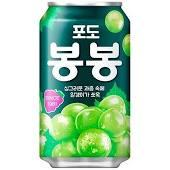can: (29, 1, 137, 169)
